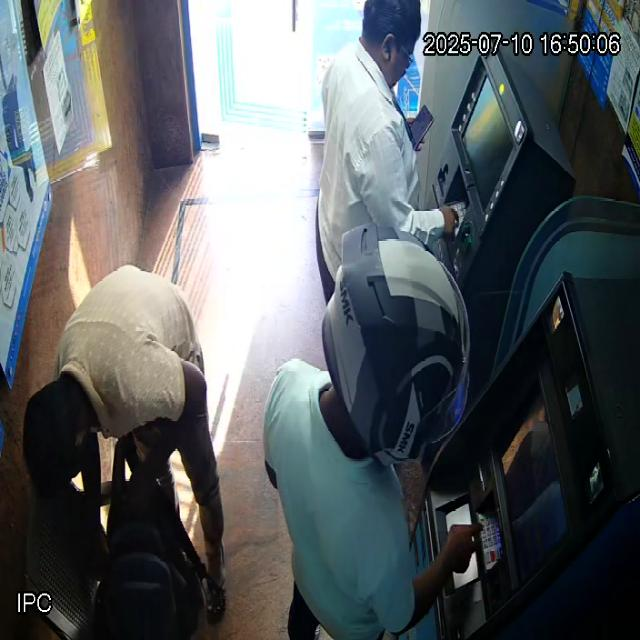helmet: (321, 222, 470, 464)
no_helmet: (20, 373, 97, 499), (360, 0, 421, 89)
